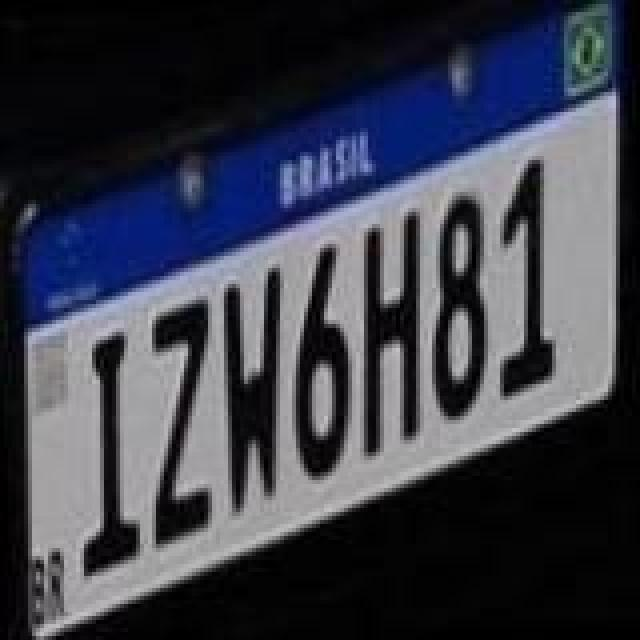1: (486, 156, 562, 404)
6: (282, 236, 358, 480)
8: (418, 196, 494, 428)
H: (352, 212, 432, 460)
I: (68, 334, 144, 586)
W: (218, 264, 298, 520)
Z: (140, 294, 224, 554)
